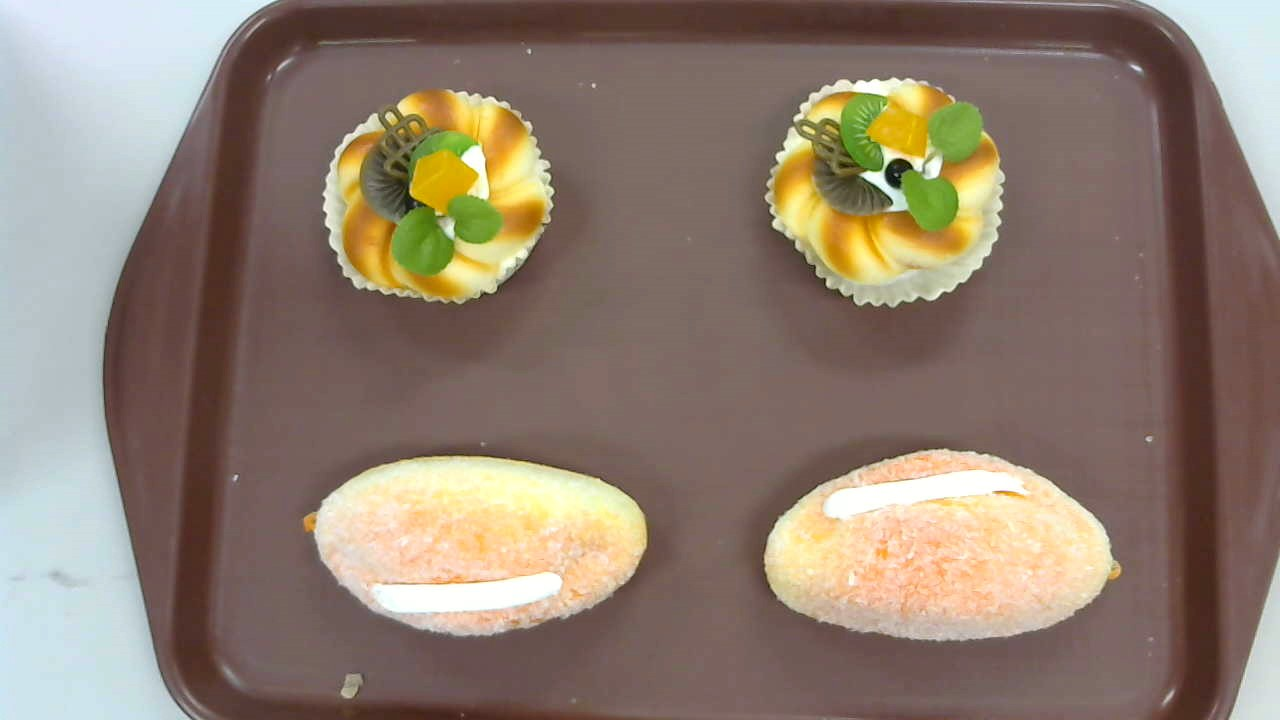coconut: (764, 448, 1122, 641), (302, 453, 647, 638)
fruit tart: (763, 77, 1005, 310), (322, 86, 557, 306)
